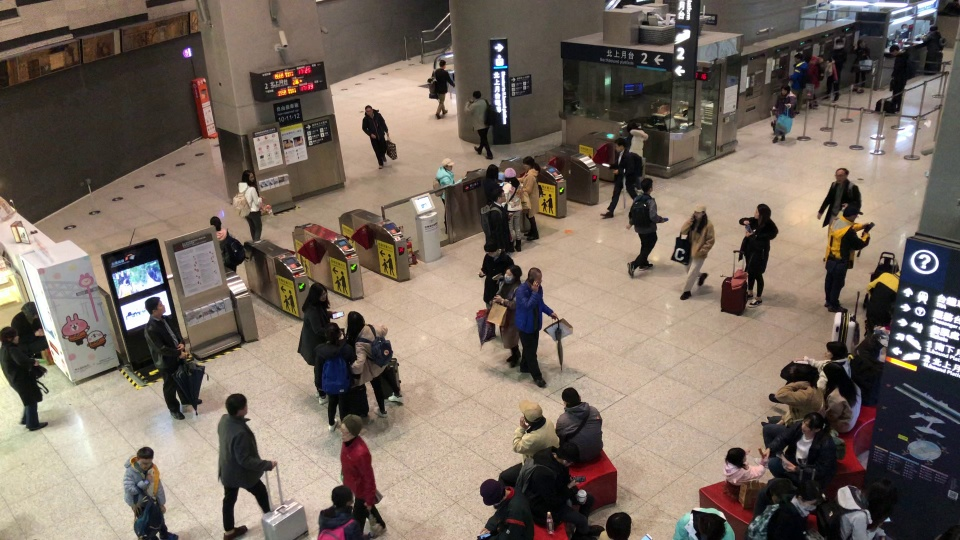person_head: (867, 477, 897, 515), (795, 481, 822, 511), (478, 478, 507, 505), (822, 361, 849, 389), (605, 512, 632, 539), (697, 514, 724, 539), (339, 413, 363, 441), (786, 364, 815, 386), (800, 411, 825, 436), (518, 399, 542, 423), (329, 484, 353, 507), (556, 442, 579, 466), (225, 393, 248, 416), (560, 386, 582, 408), (824, 340, 848, 359), (308, 282, 328, 304), (136, 446, 155, 469), (724, 446, 746, 465), (144, 296, 166, 314), (503, 264, 522, 284), (347, 310, 365, 330), (324, 322, 341, 342), (21, 300, 38, 319), (0, 326, 19, 343), (489, 185, 506, 204), (842, 205, 861, 222), (527, 266, 543, 286), (522, 155, 541, 171), (754, 203, 771, 219), (483, 240, 499, 256), (834, 166, 850, 182), (485, 163, 499, 180), (693, 202, 707, 218), (640, 177, 653, 194), (240, 169, 255, 183), (503, 168, 517, 183), (441, 157, 455, 171), (209, 215, 222, 230), (614, 136, 627, 151), (626, 121, 638, 133), (780, 83, 791, 95), (472, 89, 483, 100), (888, 44, 899, 55), (835, 38, 845, 49), (856, 39, 867, 49), (364, 104, 373, 116), (794, 52, 803, 63), (438, 59, 447, 68), (929, 24, 938, 31), (806, 54, 812, 61)
person_vbox: (217, 393, 277, 540), (515, 442, 604, 540), (754, 364, 828, 469), (759, 361, 863, 433), (143, 296, 203, 420), (762, 411, 847, 490), (346, 310, 405, 419), (339, 412, 387, 540), (297, 282, 344, 404), (767, 340, 852, 407), (497, 399, 559, 488), (822, 204, 871, 314), (514, 267, 558, 387), (122, 446, 178, 540), (0, 325, 49, 432), (816, 476, 898, 539), (745, 480, 823, 540), (736, 203, 780, 308), (313, 322, 354, 430), (817, 167, 862, 264), (624, 176, 665, 279), (476, 240, 515, 343), (555, 386, 604, 465), (678, 202, 715, 302), (599, 136, 643, 218), (477, 477, 534, 540), (316, 484, 376, 539), (492, 264, 522, 369), (463, 90, 503, 158), (478, 185, 515, 251), (232, 169, 265, 241), (209, 215, 249, 274), (432, 157, 463, 233), (10, 300, 48, 360), (671, 505, 736, 539), (502, 167, 528, 251), (517, 155, 542, 242), (620, 119, 649, 194), (888, 44, 916, 113), (361, 104, 390, 169), (721, 447, 766, 487), (770, 83, 798, 144), (427, 59, 455, 119), (822, 38, 848, 102), (788, 52, 811, 116), (847, 38, 872, 94), (805, 53, 825, 111), (482, 163, 502, 202), (922, 24, 945, 52)
